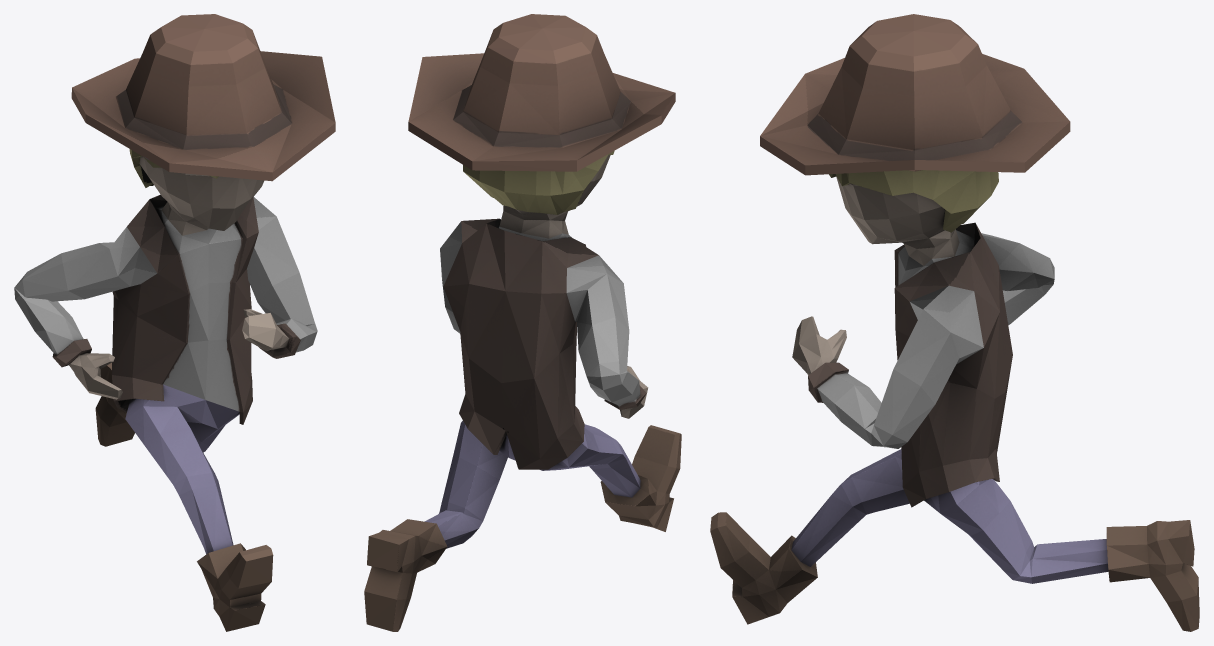
The model's file is Character Running.obj.
3 renders of one model, left to right at view 1: azimuth 30°, elevation 25°; view 2: azimuth 150°, elevation 25°; view 3: azimuth 270°, elevation 25°, orthographic. The views are drawn at different scales.
Parts seen in each view (by area): view 1: Cube; view 2: Cube; view 3: Cube.
Part boxes in pixels (left/top/right/bottom): Cube: left=14, top=14, right=335, bottom=631; Cube: left=364, top=14, right=681, bottom=631; Cube: left=710, top=14, right=1199, bottom=631.
Bounding box in the file's own units: 3.72 × 7.59 × 5.55.
